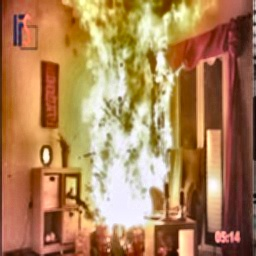fire: (60, 0, 208, 239)
